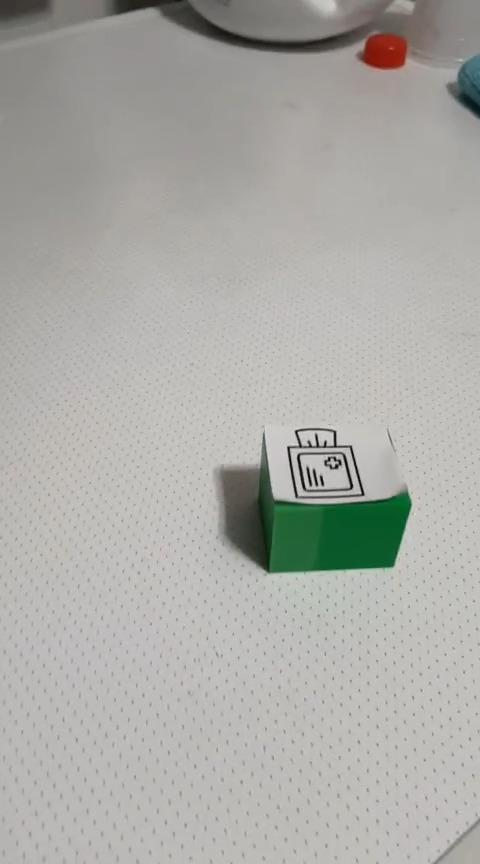Gauze: (256, 419, 412, 573)
